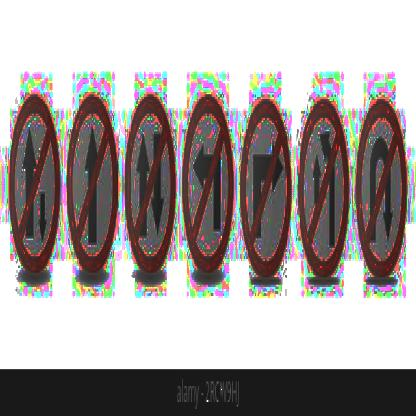No U-turn: (358, 103, 405, 270)
